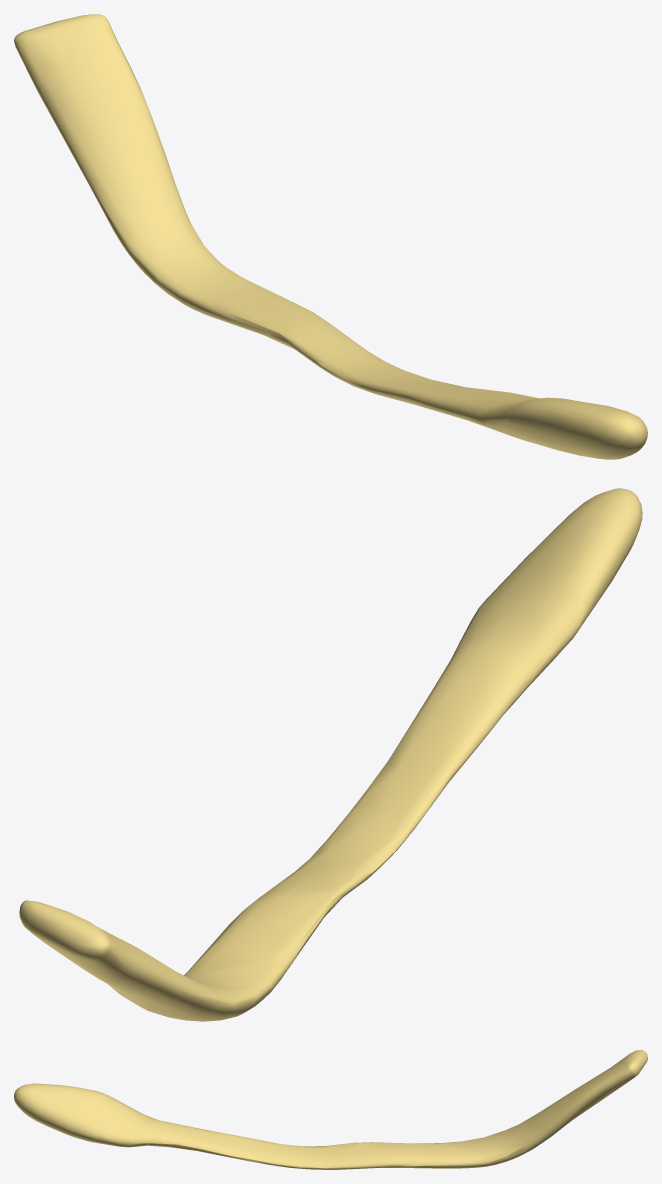
Rendered from fma223163_fj4012.glb.
3 renders of one model, top to bottom at view 1: azimuth 30°, elevation 25°; view 2: azimuth 150°, elevation 25°; view 3: azimuth 270°, elevation 25°, orthographic. The views are drawn at different scales.
Parts seen in each view (by area): view 1: FMA223163_FJ4012; view 2: FMA223163_FJ4012; view 3: FMA223163_FJ4012.
Boxes of the visible parts, box(x1,y1,x2,y2) form: FMA223163_FJ4012: box(14, 14, 647, 459); FMA223163_FJ4012: box(19, 488, 642, 1021); FMA223163_FJ4012: box(14, 1050, 647, 1169).
Bounding box in the file's own units: 0.00739 × 0.0092 × 0.0491.
